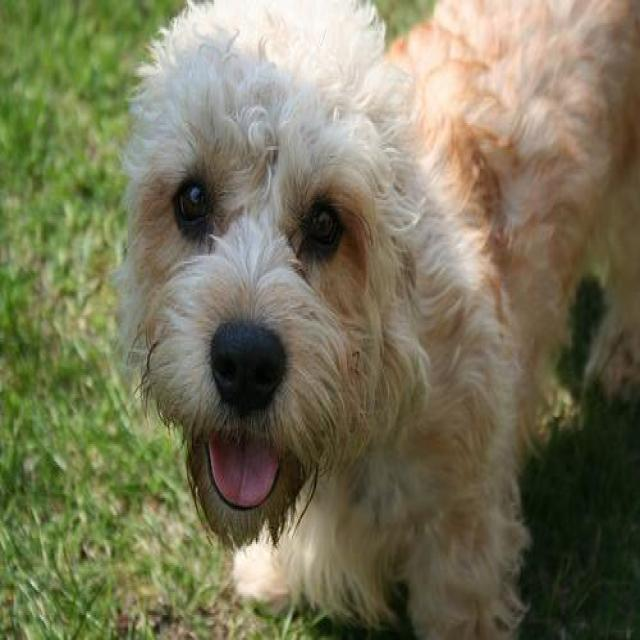dandie_dinmont: (118, 0, 637, 636)
